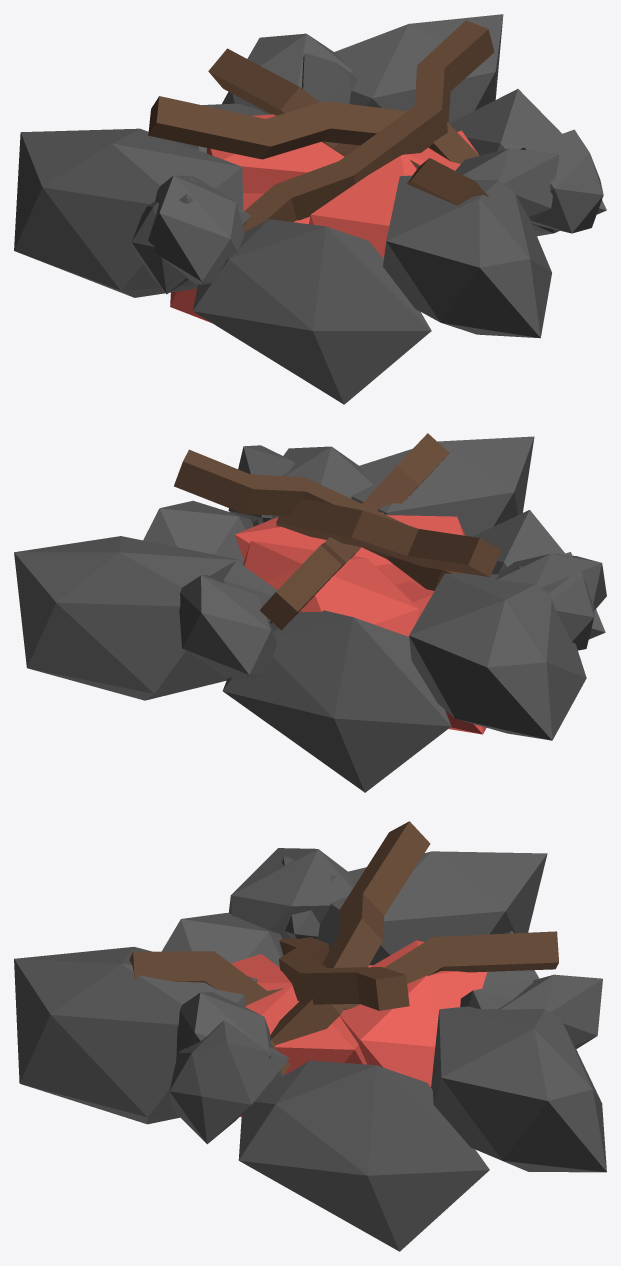
Rendered from Campfire.fbx.
3 renders of one model, top to bottom at view 1: azimuth 30°, elevation 25°; view 2: azimuth 150°, elevation 25°; view 3: azimuth 270°, elevation 25°, orthographic. The views are drawn at different scales.
Parts seen in each view (by area): view 1: Cube; view 2: Cube; view 3: Cube.
Boxes of the visible parts, bbox=[...] form: Cube: bbox=[14, 14, 606, 404]; Cube: bbox=[14, 433, 606, 792]; Cube: bbox=[14, 821, 606, 1251].
Size of the model in its own units: 202 by 92.82 by 190.
